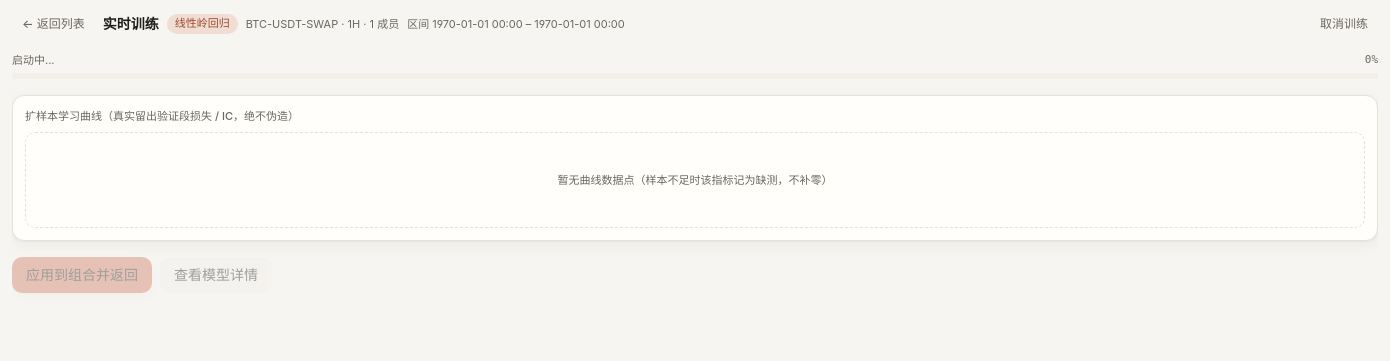
Test case: WeightTrainLive — origin 记忆 / 连接恢复 / 卸载守卫 › recovers to streaming and surfaces an error when cancel fails (H-F3)
This screenshot has width=1390, height=361.
What coordinates should you click on to do the following:
click the button "取消训练"
I would click on:
 (1344, 24)
Its box is top-left (1310, 12), bottom-right (1378, 36).
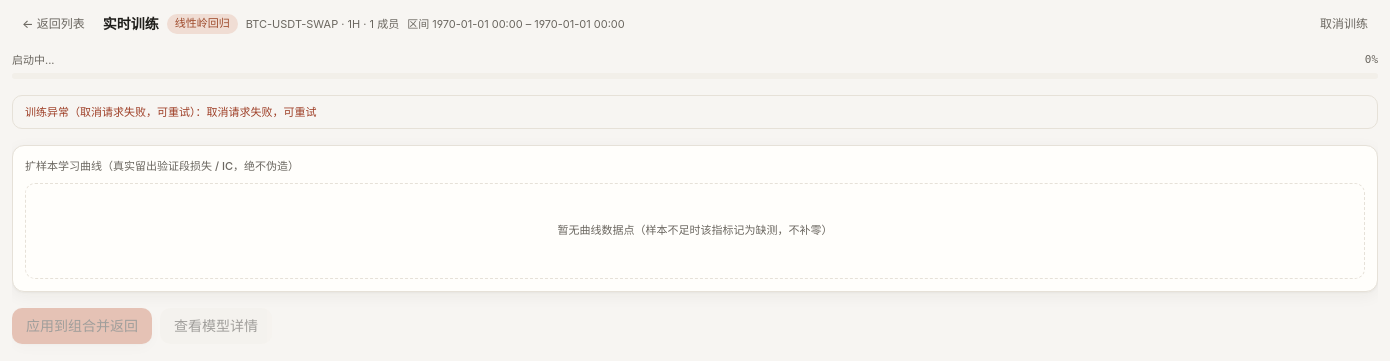
Expected: the text "取消请求失败" is shown, top-left (80, 104), bottom-right (190, 118)
